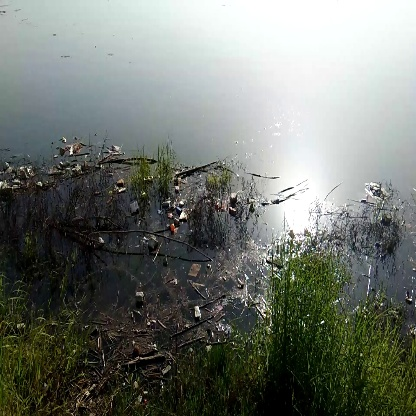branch: (173, 154, 223, 181)
